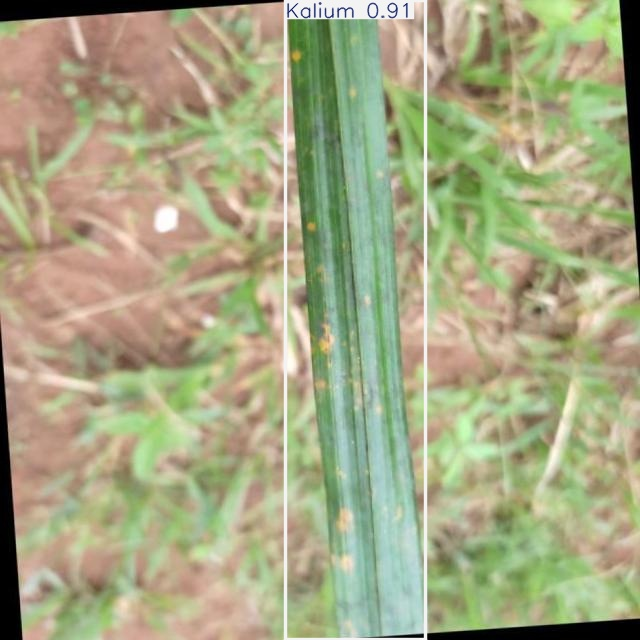Kalium: (285, 1, 426, 639)
